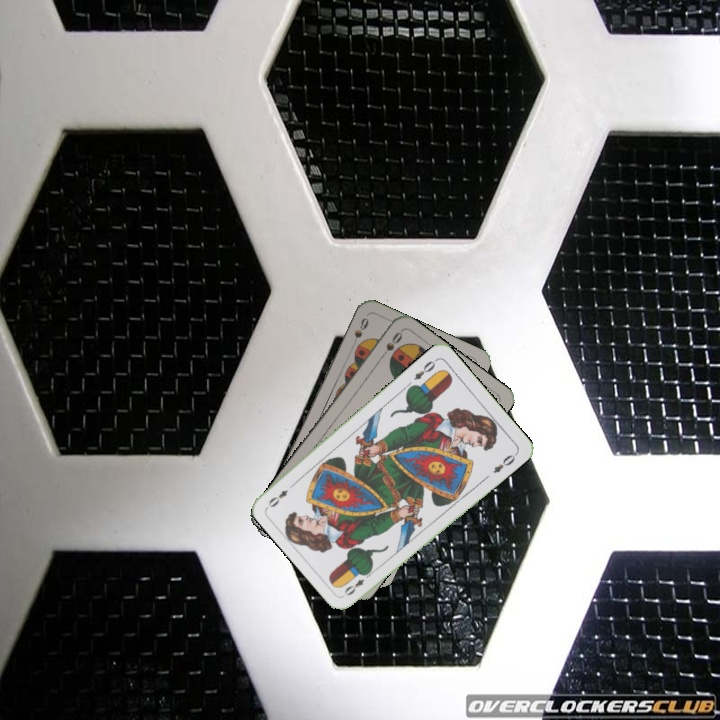EO: (340, 568, 374, 599), (410, 355, 440, 383)
S9: (347, 313, 371, 351)
SO: (375, 327, 405, 363)
